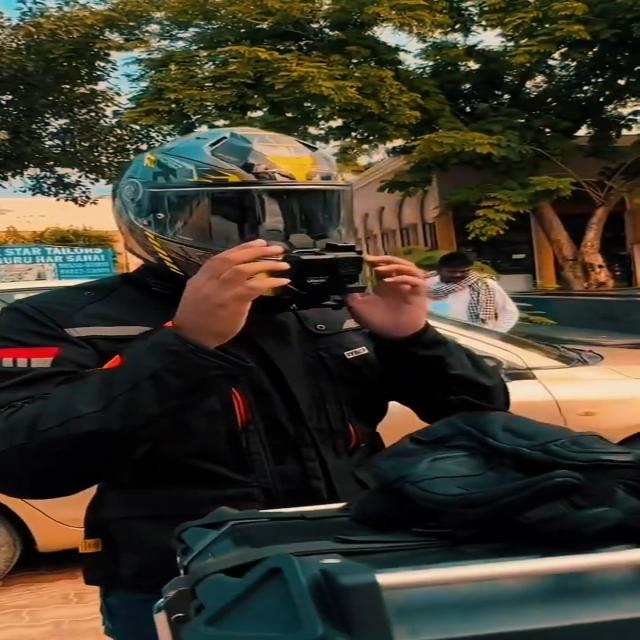Helmet_Wearer: (94, 123, 403, 310)
Jacket_Wearer: (7, 259, 503, 640)
Person: (2, 115, 508, 640)
